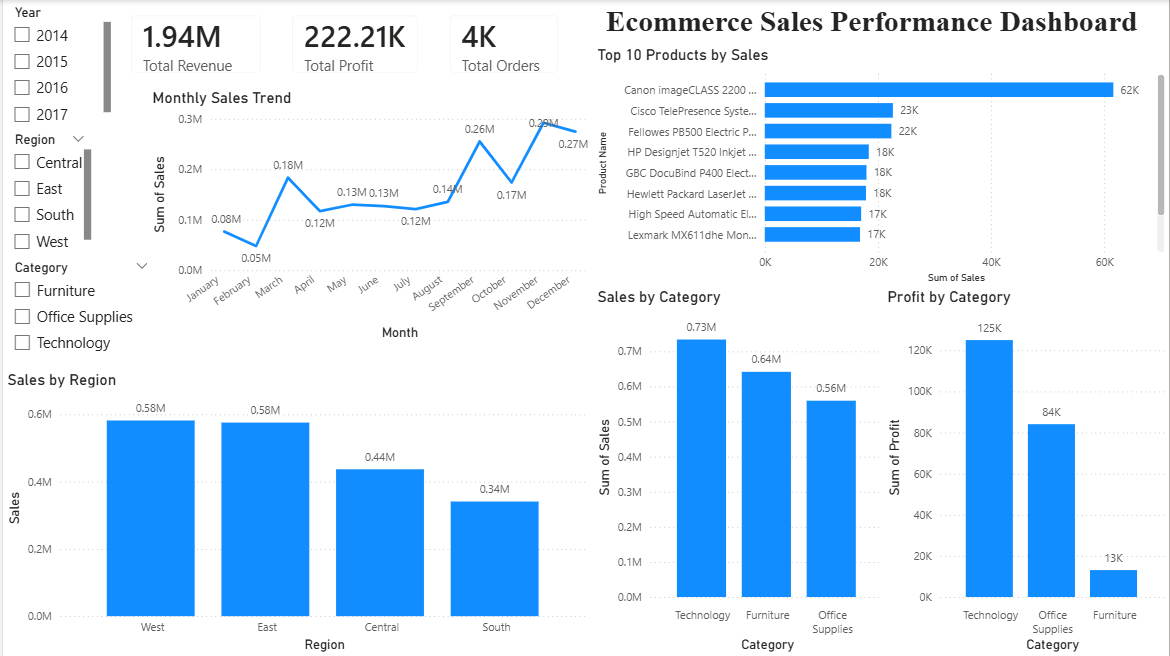

What the dashboard file says about the page in this screenshot:
{"tool":"powerbi","page":{"name":"Page 1","canvas":[1280,720],"ordinal":0},"visuals":[{"type":"columnChart","title":"Sales by Category","fields":{"Category":["Superstore.Category"],"Y":["Sum(Superstore.Sales)"]},"box":[647.7,315.6,325.2,404.8],"z":0},{"type":"columnChart","fields":{"Y":["Sum(Superstore.Sales)"],"Category":["Superstore.Region"]},"box":[0,406.2,647.7,314.2],"z":1000},{"type":"lineChart","title":"Monthly Sales Trend","fields":{"Y":["Sum(Superstore.Sales)"],"Category":["Superstore.Order Date.Variation.Date Hierarchy.Month"]},"box":[159.2,97.4,488.5,281.3],"z":2000},{"type":"barChart","title":"Top 10 Products by Sales","fields":{"Category":["Superstore.Product Name"],"Y":["Sum(Superstore.Sales)"]},"box":[647.7,49.4,632.6,266.2],"z":3000},{"type":"columnChart","title":"Profit by Category","fields":{"Y":["Sum(Superstore.Profit)"],"Category":["Superstore.Category"]},"box":[966,315.6,314.2,404.8],"z":4000},{"type":"cardVisual","fields":{"Data":["Sum(Superstore.Sales)"]},"box":[123.5,0,177,97.4],"z":5000},{"type":"cardVisual","fields":{"Data":["Superstore.Total Profit"]},"box":[300.5,0,172.9,97.4],"z":6000},{"type":"cardVisual","fields":{"Data":["Superstore.Total Orders"]},"box":[473.4,0,153.7,97.4],"z":7000},{"type":"slicer","fields":{"Values":["Superstore.Order Date.Variation.Date Hierarchy.Year"]},"box":[0,0,123.5,140],"z":8000},{"type":"slicer","fields":{"Values":["Superstore.Region"]},"box":[0,140,101.5,140],"z":9000},{"type":"slicer","fields":{"Values":["Superstore.Category"]},"box":[0,279.9,171.5,126.2],"z":9001},{"type":"textbox","box":[627.1,0,653.2,49.4],"z":9002}]}

Visuals, with their boxes in screenshot pixels (x1, y1, x2, y2), scaled from the page's 1280x720 canvas onto the 1170x656 screenshot:
"Sales by Category" columnChart: (x1=592, y1=288, x2=889, y2=655)
columnChart - Sum(Superstore.Sales) x Superstore.Region: (x1=0, y1=370, x2=592, y2=655)
"Monthly Sales Trend" lineChart: (x1=146, y1=89, x2=592, y2=345)
"Top 10 Products by Sales" barChart: (x1=592, y1=45, x2=1169, y2=288)
"Profit by Category" columnChart: (x1=883, y1=288, x2=1169, y2=655)
cardVisual - Sum(Superstore.Sales): (x1=113, y1=0, x2=275, y2=89)
cardVisual - Superstore.Total Profit: (x1=275, y1=0, x2=433, y2=89)
cardVisual - Superstore.Total Orders: (x1=433, y1=0, x2=573, y2=89)
slicer - Superstore.Order Date.Variation.Date Hierarchy.Year: (x1=0, y1=0, x2=113, y2=128)
slicer - Superstore.Region: (x1=0, y1=128, x2=93, y2=255)
slicer - Superstore.Category: (x1=0, y1=255, x2=157, y2=370)
textbox: (x1=573, y1=0, x2=1169, y2=45)
